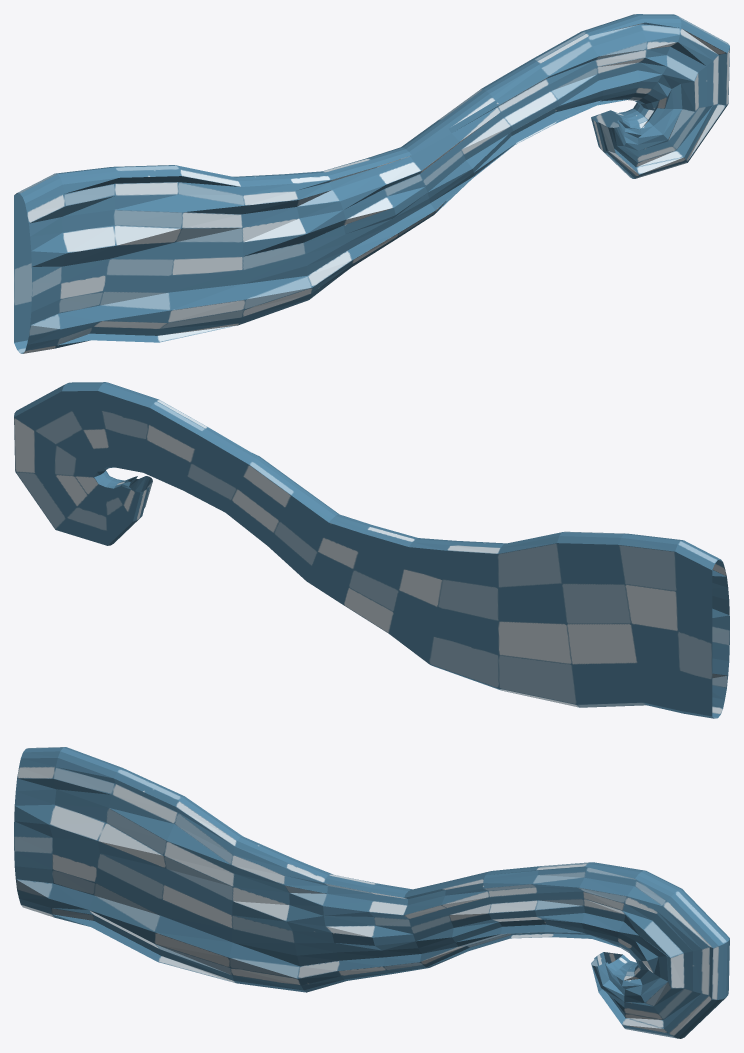
Rendered from galaxy1.obj.
3 views of the same model, one above another, from view 1: azimuth 30°, elevation 25°; view 2: azimuth 150°, elevation 25°; view 3: azimuth 330°, elevation 25° (orthographic).
Parts seen in each view (by area): view 1: 円; view 2: 円; view 3: 円.
Boxes of the visible parts, x1,y1,x2,y2 form: 円: [14, 14, 729, 353]; 円: [14, 382, 729, 718]; 円: [14, 747, 729, 1038].
Size of the model in its own units: 26.55 by 7.53 by 1.17.
1 material, 1 textured.
